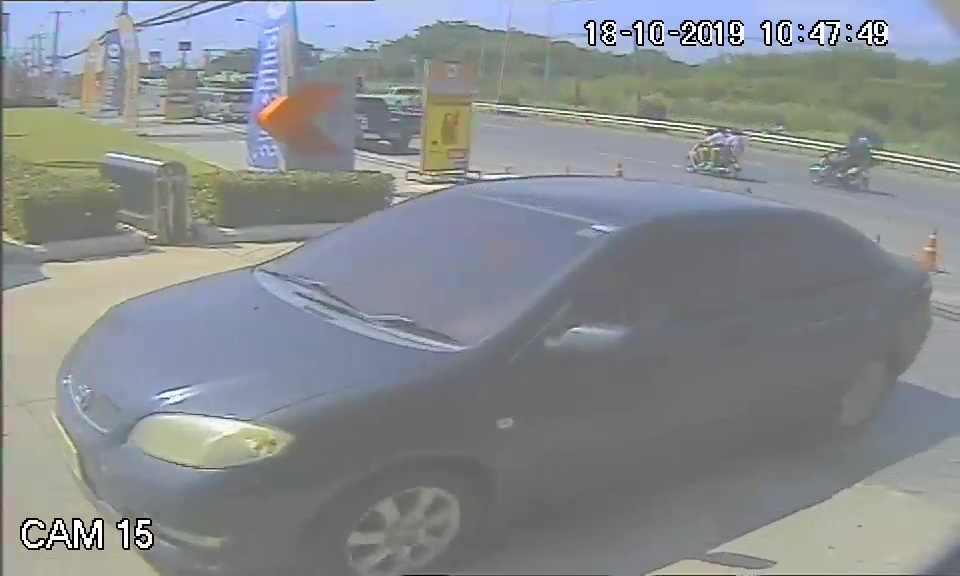sedan: (50, 171, 940, 574)
